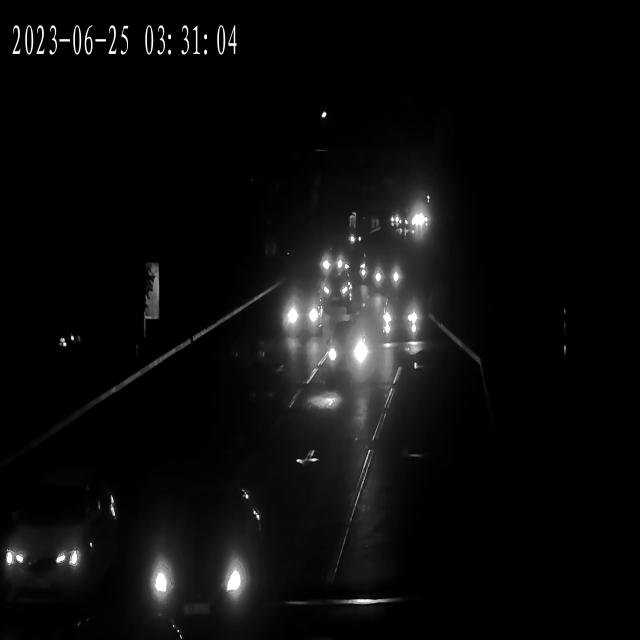Car: (126, 483, 269, 635), (1, 473, 111, 588), (323, 327, 380, 378), (276, 291, 326, 341), (375, 297, 421, 341), (361, 258, 404, 294), (321, 274, 355, 307), (316, 247, 349, 276), (341, 250, 366, 280), (345, 231, 364, 247), (408, 214, 429, 228), (392, 218, 412, 232), (391, 217, 408, 230), (387, 214, 403, 226)
